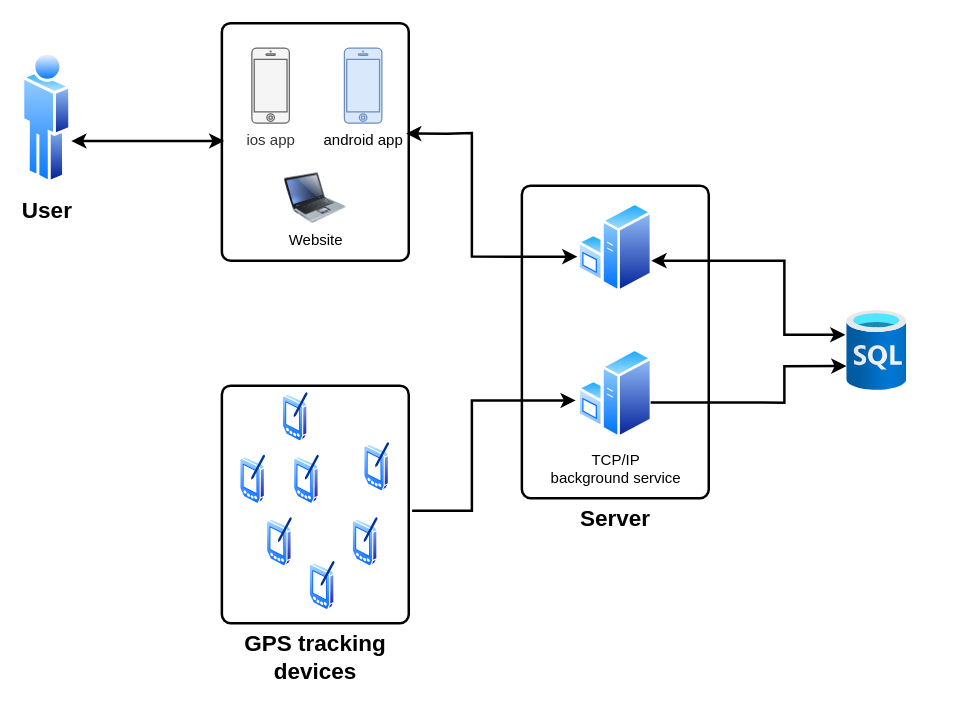
This 974x706 diagram has some shape labels left out. Here are the shapes that lost their labels. From the top down, the box of each, then its label:
(220, 21, 409, 261): Frontend
(577, 202, 652, 293): APIs
(846, 310, 906, 390): SQL Database
